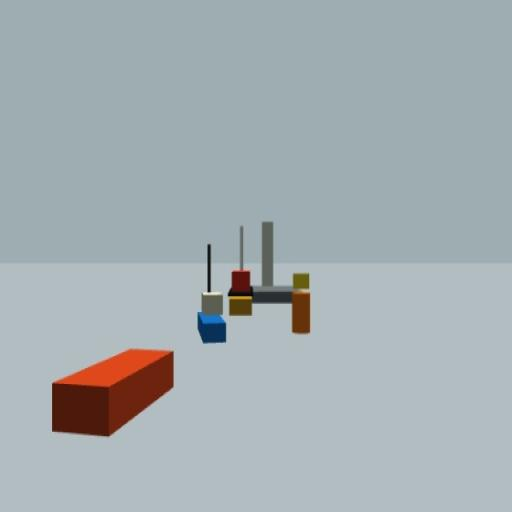buoy: (292, 274, 310, 333)
debris_container: (53, 347, 175, 442)
fishing_boat: (197, 243, 228, 347)
platform: (251, 222, 293, 302)
vessel: (227, 226, 253, 317)
